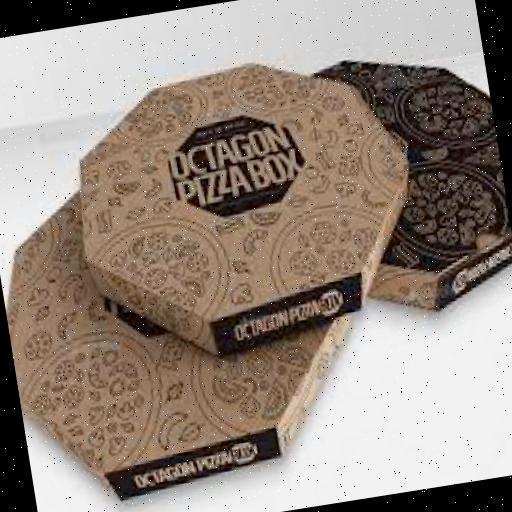cardboard: (0, 148, 370, 511), (55, 38, 431, 375), (303, 37, 512, 323)
